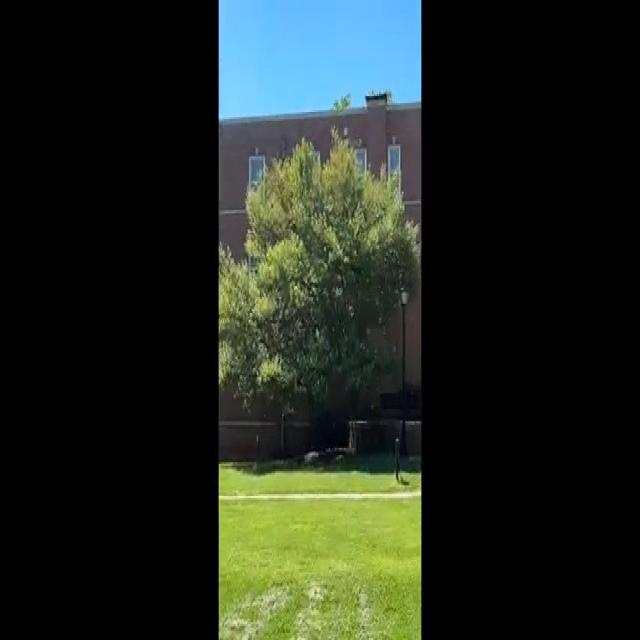drone: (265, 391, 277, 407)
